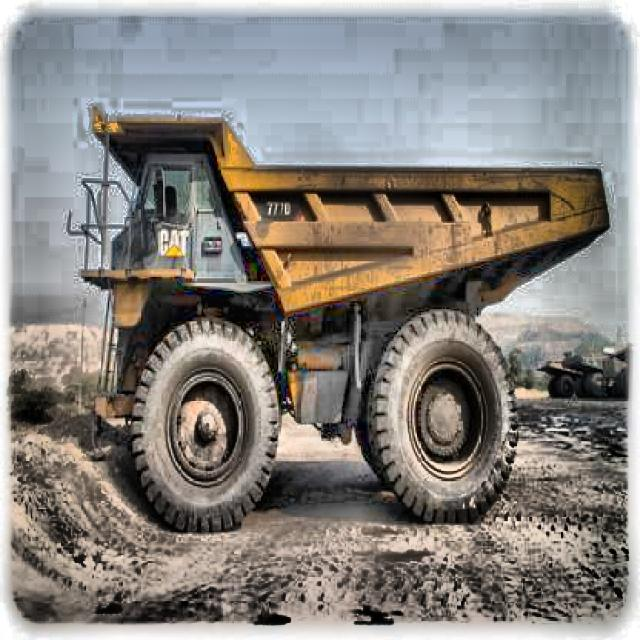dump_truck: (74, 97, 608, 533)
